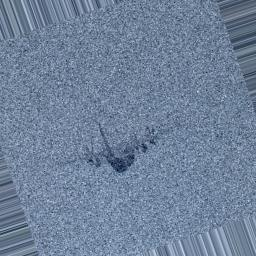Airplane: (64, 120, 167, 175)
